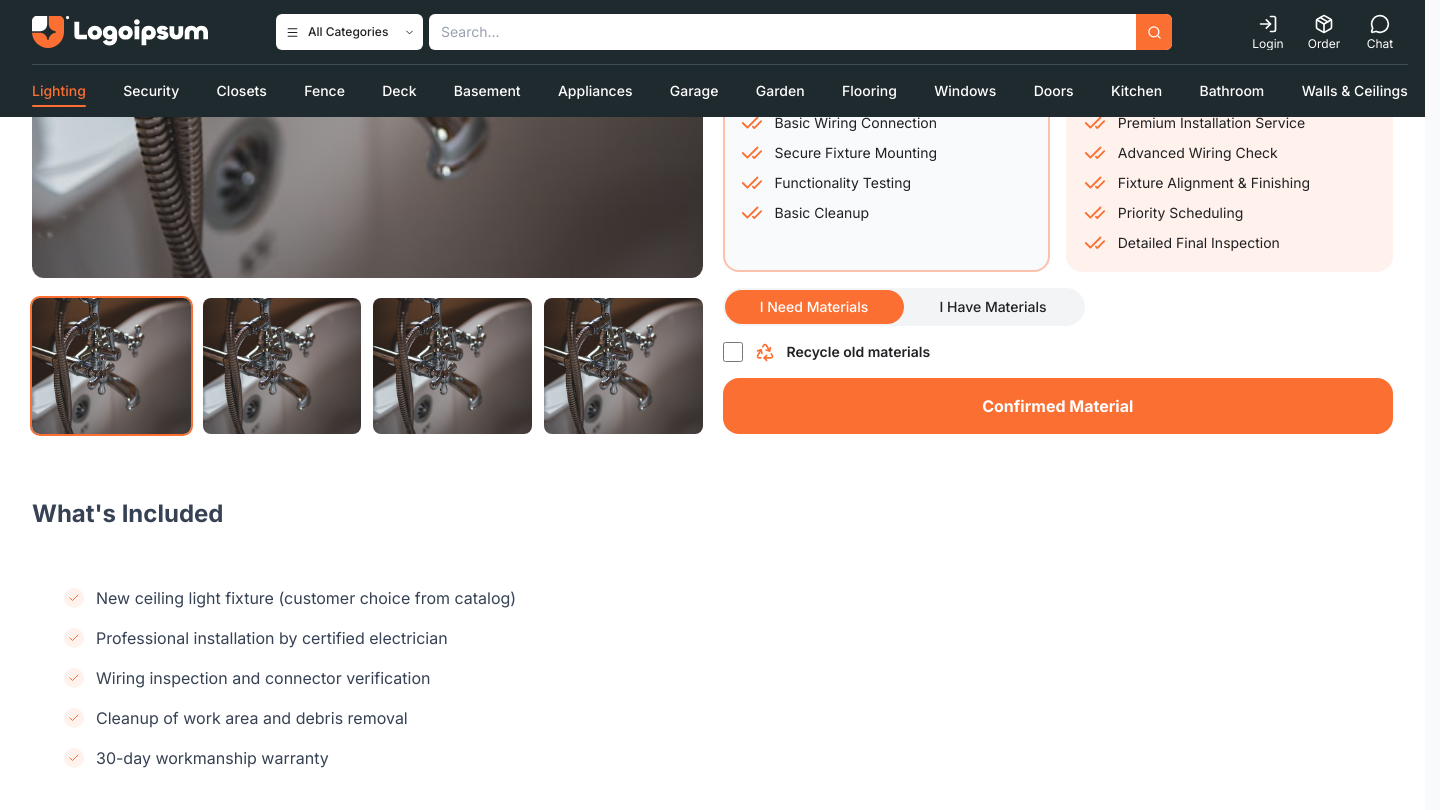
it: Service details page › opens the zip form below the confirm button and applies without a zip condition
The image size is (1440, 810).
(page scrolled)
Click the button "Confirmed Material" at (1058, 406), box left=722, top=378, right=1393, bottom=434
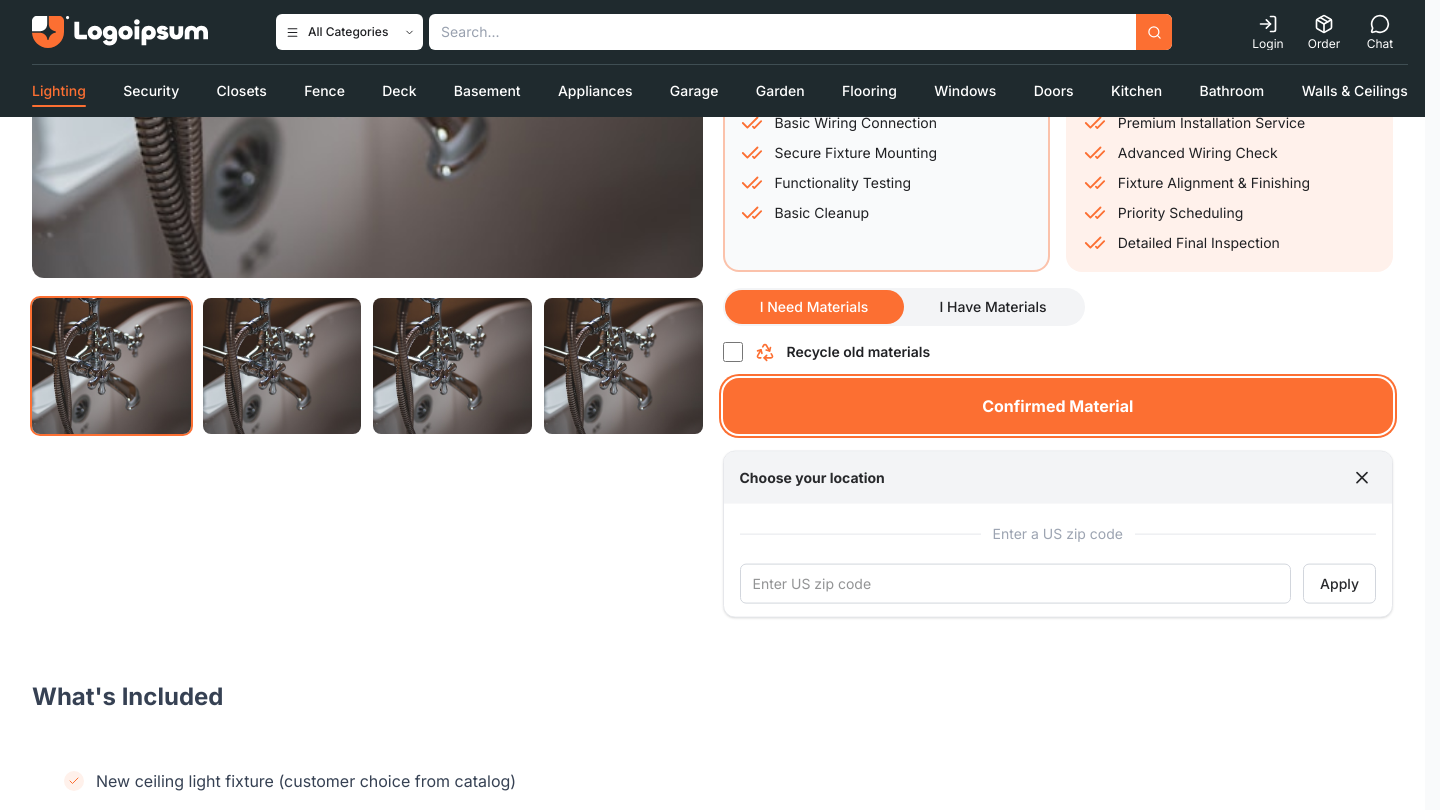
Check: the element "Choose your location" is shown, box left=722, top=450, right=1393, bottom=618
Click the button "Apply" at (1340, 583), box left=1303, top=563, right=1376, bottom=603
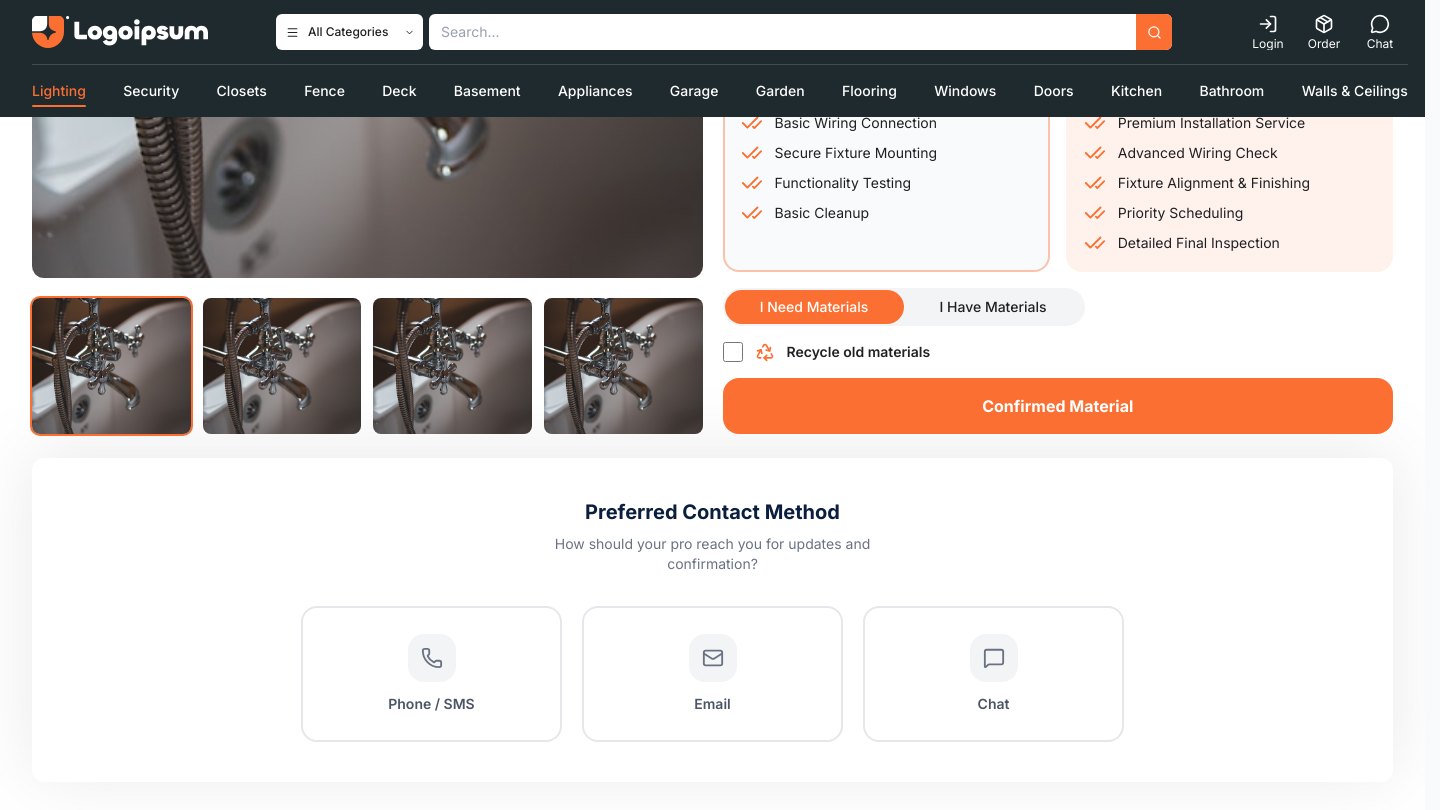
Check: the heading "Choose your location" is gone
Check: the element "Preferred Contact Method" is shown, box left=32, top=458, right=1393, bottom=782
